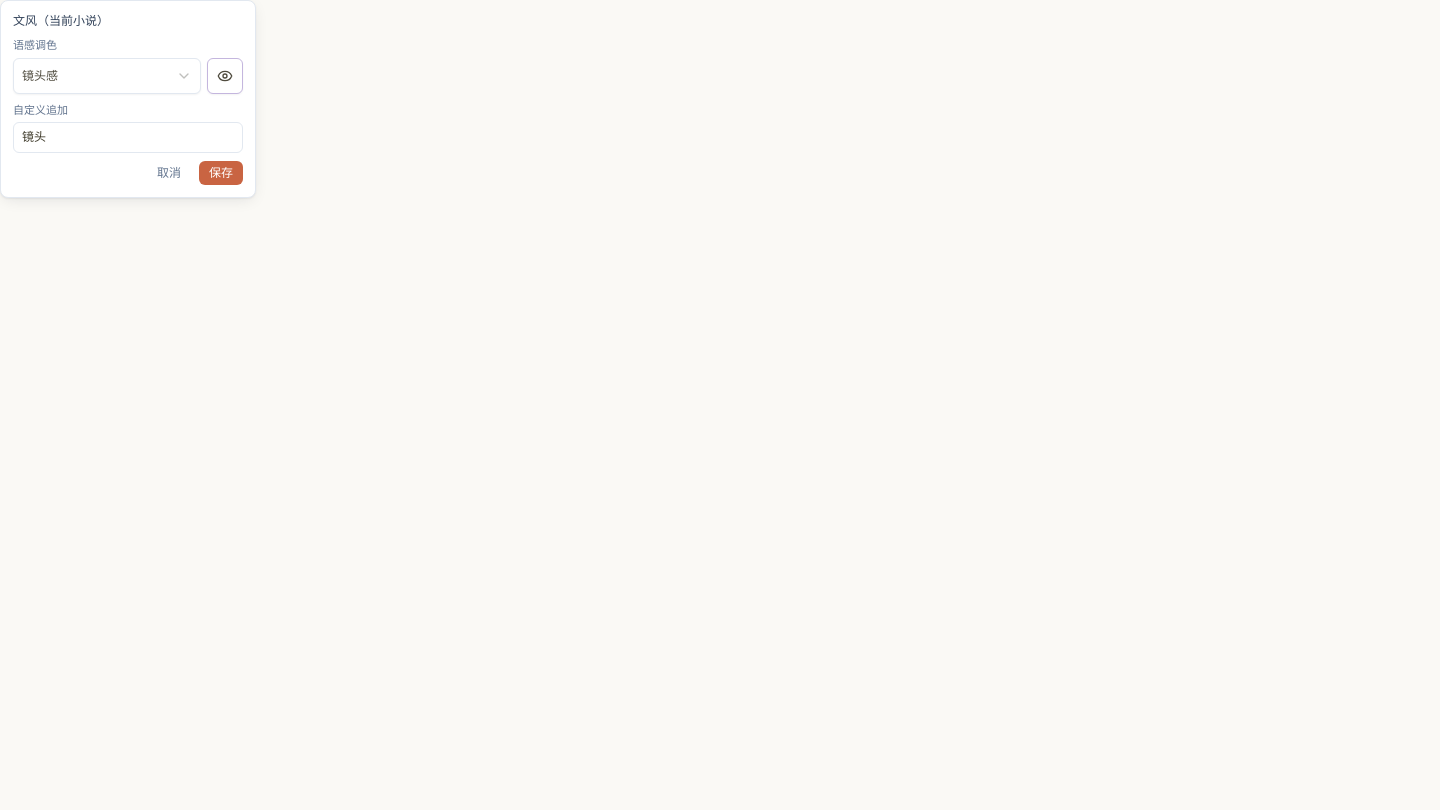
Test: ProseStylePanel › 点击预览按钮展示当前选中 preset 的正文
Expected: the text "镜头感" is shown, 22,68 -> 58,84
Click the button titled "预览文风内容": {"x": 225, "y": 76} 207,58 -> 243,94
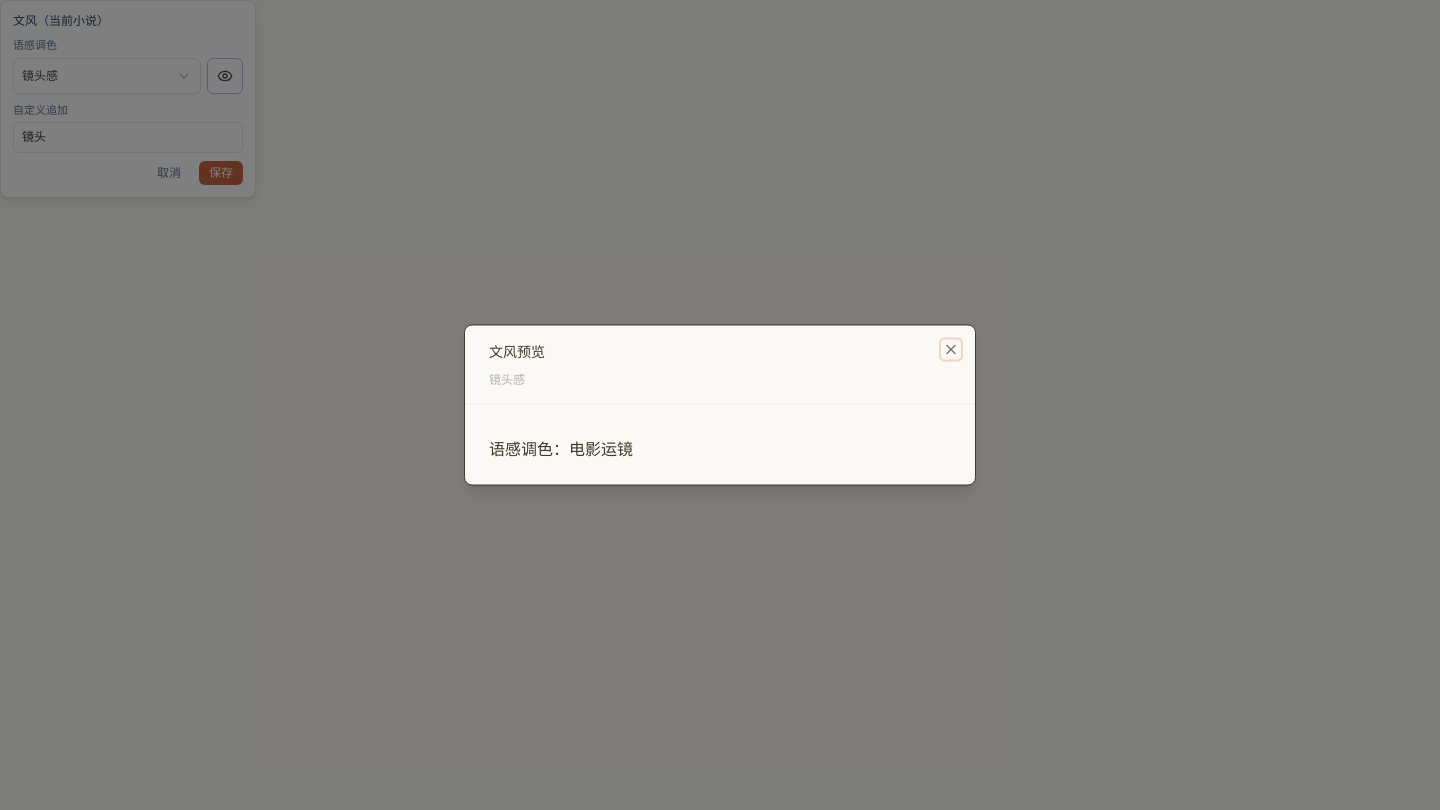
Result: the heading "文风预览" is shown at 489,342 -> 545,360
Result: the heading "语感调色：电影运镜" is shown at 489,438 -> 633,460
